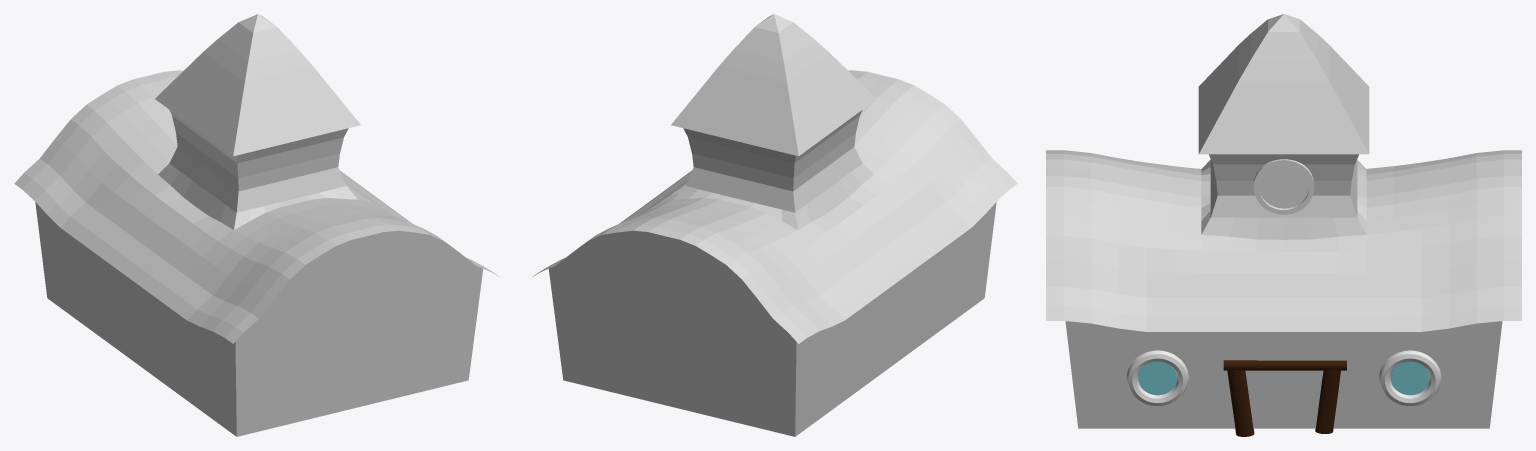
The model's file is Townhall.fbx.
3 views of the same model, side by side, from view 1: azimuth 30°, elevation 25°; view 2: azimuth 150°, elevation 25°; view 3: azimuth 270°, elevation 25° (orthographic). The views are drawn at different scales.
Visible parts, largest first — view 1: Townhall; view 2: Townhall; view 3: Townhall, Windowsill.001, DoorFrame.001, Circle.001.
Part boxes in pixels (x1,y1,x2,y2): Townhall: (14, 14, 498, 436); Townhall: (533, 14, 1017, 436); Townhall: (1046, 14, 1521, 428); Windowsill.001: (1126, 350, 1441, 405); DoorFrame.001: (1223, 360, 1346, 436); Circle.001: (1253, 159, 1314, 214).
Bounding box in the file's own units: 382 × 451 × 540.
